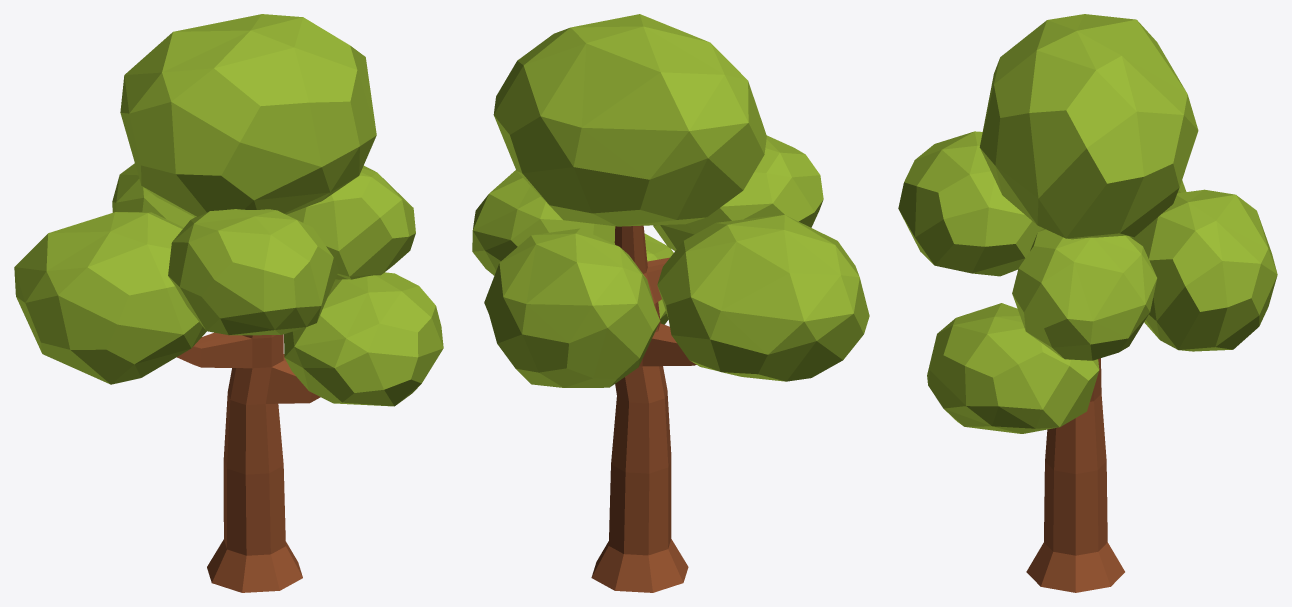
The model's file is Tree_2.fbx.
3 renders of one model, left to right at view 1: azimuth 30°, elevation 25°; view 2: azimuth 150°, elevation 25°; view 3: azimuth 270°, elevation 25°, orthographic.
Parts seen in each view (by area): view 1: leaf, stem; view 2: leaf, stem; view 3: leaf, stem.
Boxes of the visible parts, <box> form: leaf: <box>14,14,443,406</box>; stem: <box>177,332,320,592</box>; leaf: <box>472,14,869,387</box>; stem: <box>591,225,696,592</box>; leaf: <box>898,14,1277,433</box>; stem: <box>1026,358,1124,592</box>.
Bounding box in the file's own units: 328 × 452 × 288.
